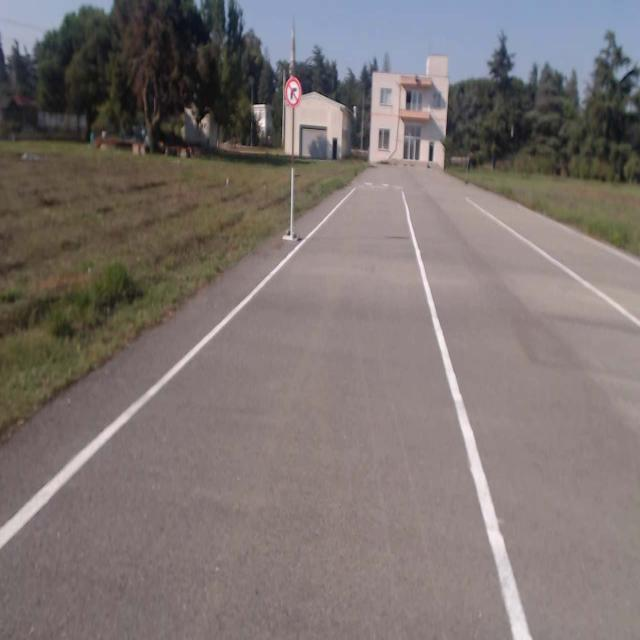sagadonulmez: (286, 77, 302, 107)
